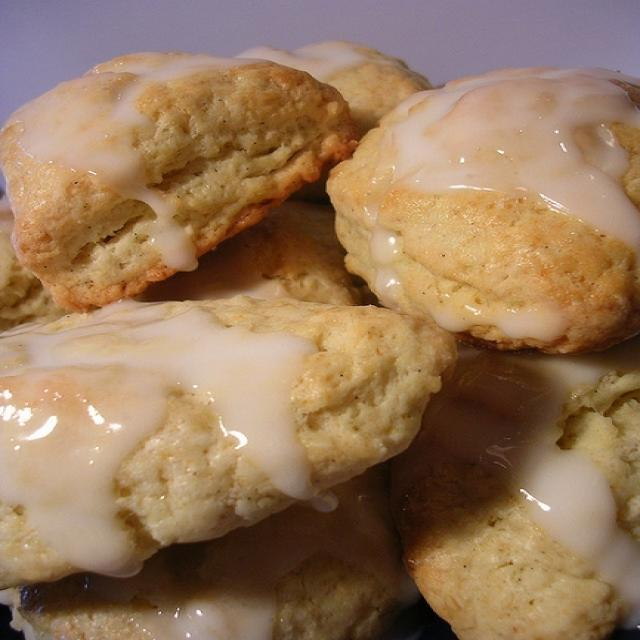面包点心: (9, 21, 627, 618)
